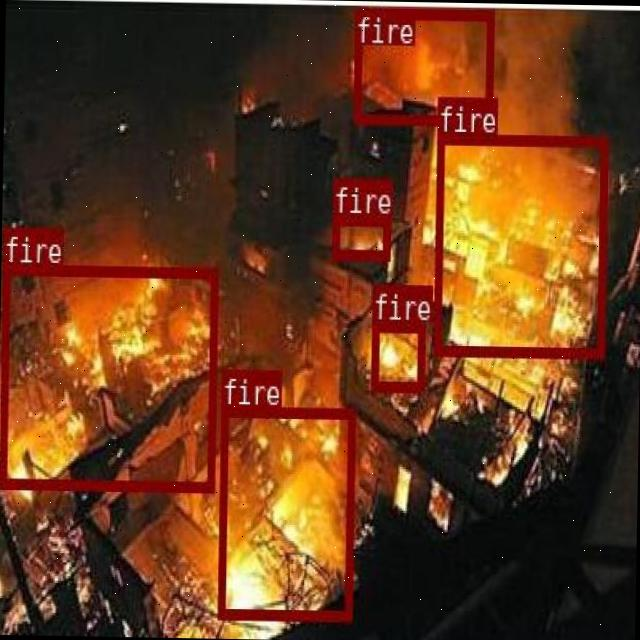fire: (0, 262, 215, 490), (432, 132, 606, 357), (215, 406, 354, 620), (352, 5, 492, 124), (369, 320, 423, 390), (331, 214, 389, 259)
